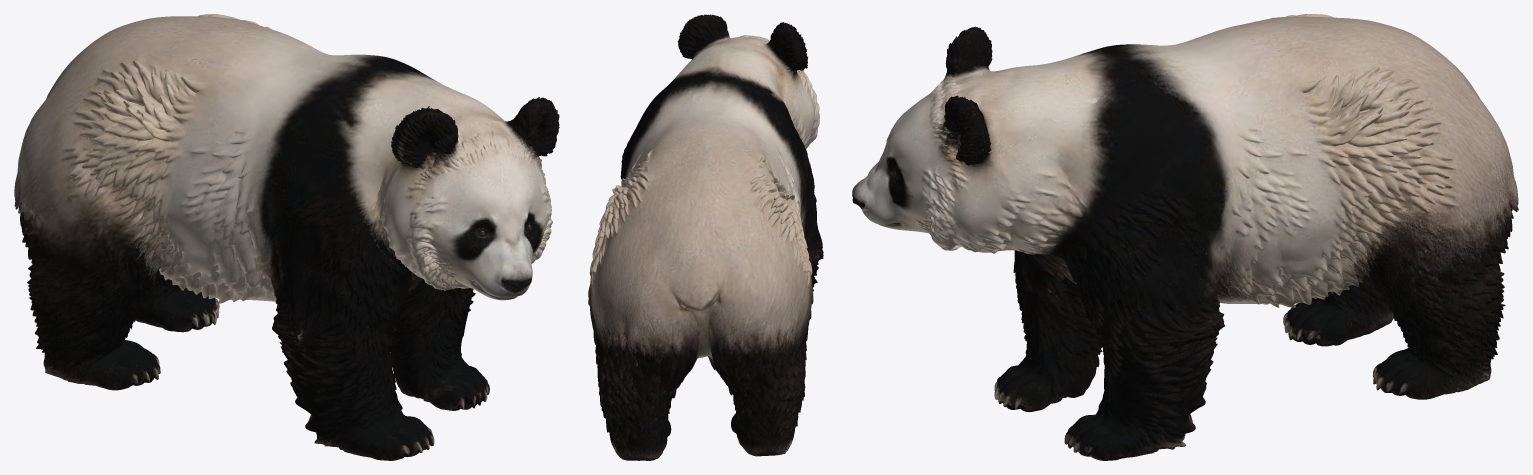
File: panda-light.glb
3 renders of one model, left to right at view 1: azimuth 30°, elevation 25°; view 2: azimuth 150°, elevation 25°; view 3: azimuth 270°, elevation 25°, orthographic. The views are drawn at different scales.
Visible parts, largest first — view 1: panda; view 2: panda; view 3: panda.
Boxes of the visible parts, x1,y1,x2,y2 form: panda: [14, 14, 559, 460]; panda: [588, 14, 823, 460]; panda: [852, 14, 1518, 460].
Size of the model in its own units: 0.9691 by 0.9857 by 1.6.
Materials: 1 (1 with a texture image).
